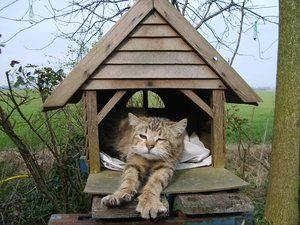kedo: (103, 112, 188, 221)
